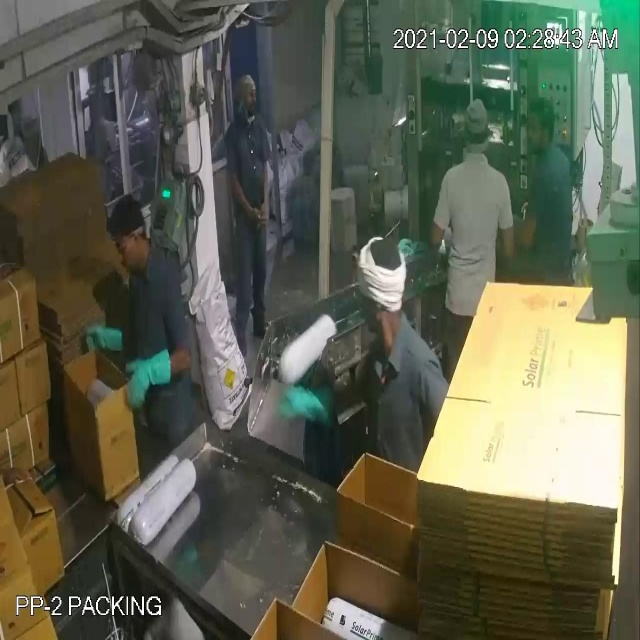Guantes: (274, 367, 355, 449), (115, 344, 187, 411), (80, 316, 129, 364)
Sin_guantes: (225, 171, 268, 234), (257, 159, 274, 222)
